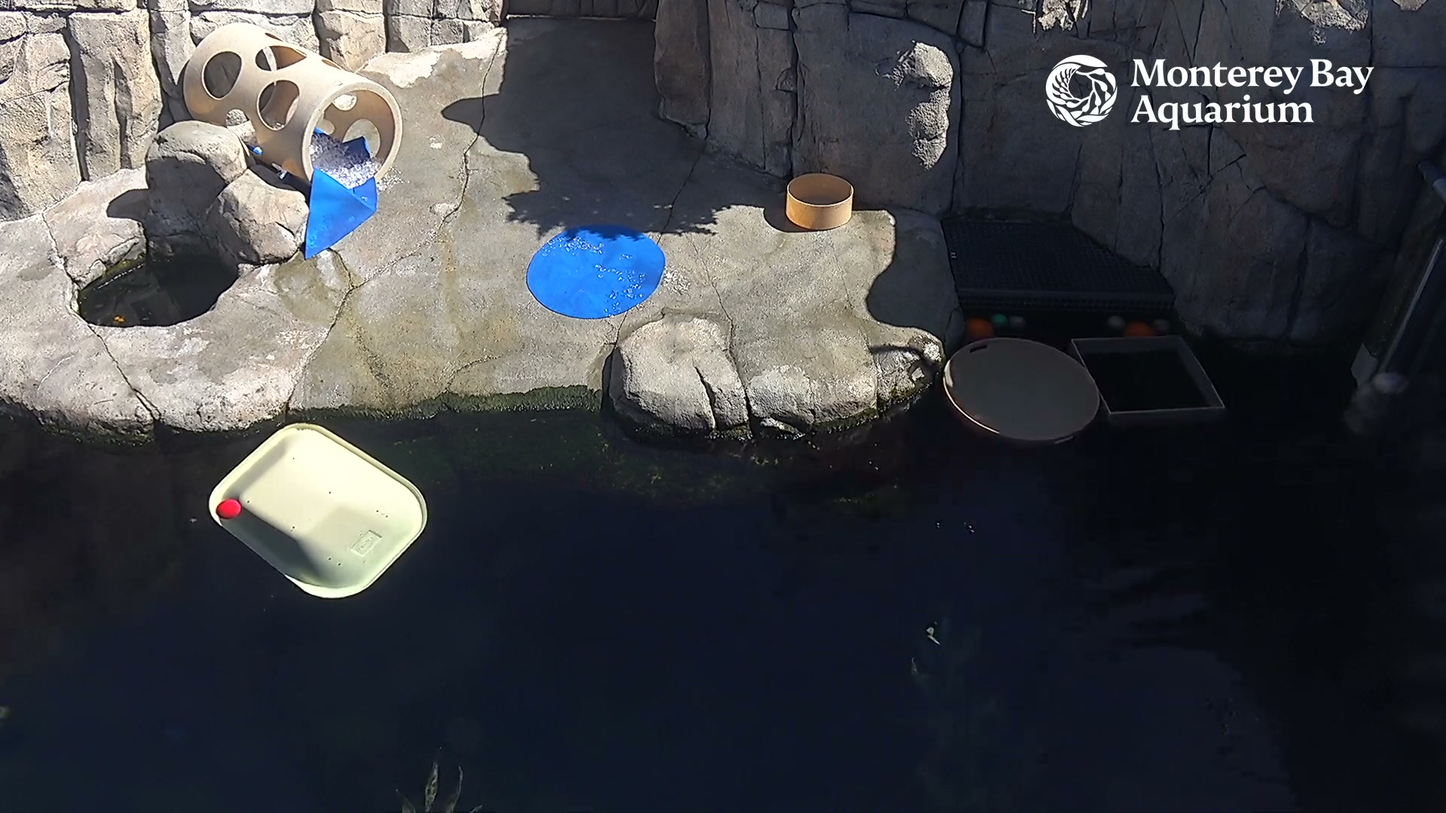Southern Sea Otter: (1329, 339, 1446, 506)
